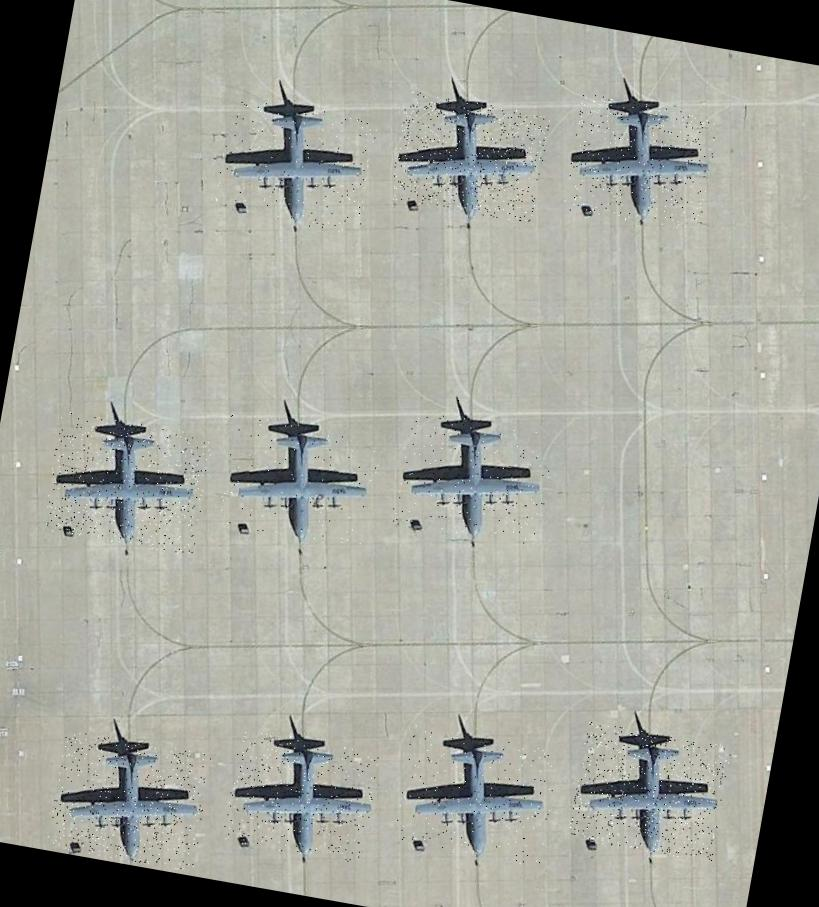A2: (40, 410, 213, 556), (46, 728, 212, 872), (392, 724, 560, 866), (211, 411, 382, 550), (212, 94, 378, 235), (567, 720, 731, 862), (390, 408, 555, 548), (562, 93, 720, 234), (388, 90, 550, 224), (221, 728, 379, 864)
